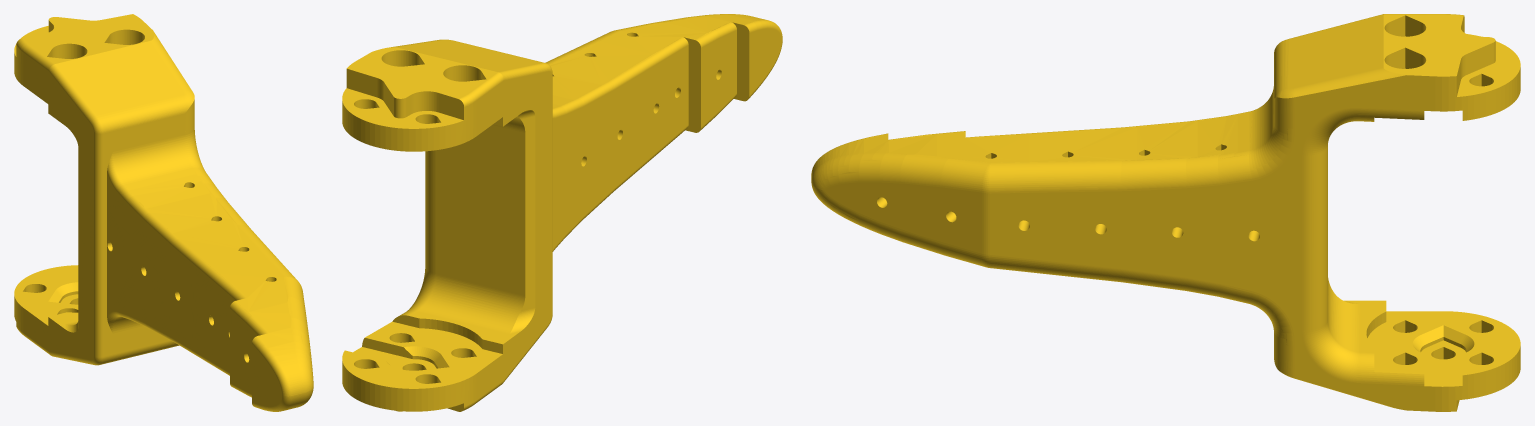
File: moving_jaw_so101_v1_stl.dae
3 renders of one model, left to right at view 1: azimuth 30°, elevation 25°; view 2: azimuth 150°, elevation 25°; view 3: azimuth 270°, elevation 25°, orthographic. The views are drawn at different scales.
Visible parts, largest first — view 1: node0; view 2: node0; view 3: node0.
Part boxes in pixels (x1=…): node0: x1=14, y1=14, x2=313, y2=411; node0: x1=342, y1=14, x2=782, y2=411; node0: x1=811, y1=14, x2=1520, y2=411.
Size of the model in its own units: 0.0223 by 0.092 by 0.048.
